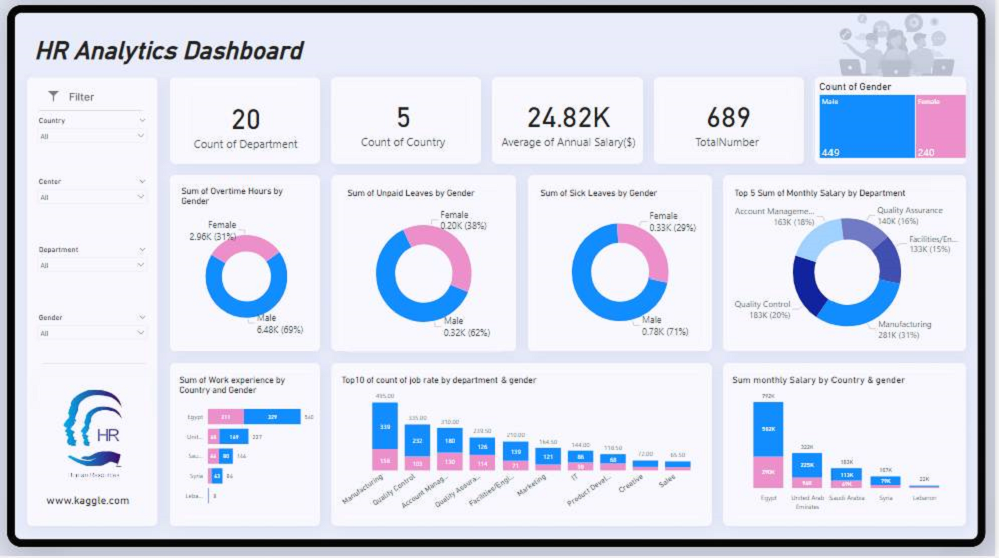

This screenshot's page, from the dashboard's own definition file:
{"tool":"powerbi","page":{"name":"HR","canvas":[1920,1080],"ordinal":0},"visuals":[{"type":"card","fields":{"Values":["CountNonNull(EmpTable.No)"]},"box":[1279.4,174,254.6,131.6],"z":0},{"type":"treemap","title":"Count of Gender","fields":{"Group":["EmpTable.Gender"],"Values":["Count(EmpTable.No)"]},"box":[1571.2,155.8,303.8,167.3],"z":1000},{"type":"card","fields":{"Values":["Avg(EmpTable.Annual Salary)"]},"box":[954.8,174,286.4,131.6],"z":2000},{"type":"card","fields":{"Values":["Count(EmpTable.Country)"]},"box":[645,174,269.5,131.6],"z":3000},{"type":"card","fields":{"Values":["Count(EmpTable.Department)"]},"box":[360.7,169.7,229.2,148.5],"z":4000},{"type":"columnChart","title":"Top10 of count of job rate by department & gender","fields":{"Category":["EmpTable.Department"],"Y":["Sum(EmpTable.Job Rate)"],"Series":["EmpTable.Gender"]},"box":[649.3,723.5,721.4,282.2],"z":5000},{"type":"columnChart","title":" Sum monthly Salary by Country & gender ","fields":{"Category":["EmpTable.Country"],"Y":["Sum(EmpTable.Monthly Salary)"],"Series":["EmpTable.Gender"]},"box":[1402.5,723.5,451.9,282.2],"z":6000},{"type":"barChart","fields":{"Category":["EmpTable.Country"],"Y":["Sum(EmpTable.Years)"],"Series":["EmpTable.Gender"]},"box":[335.2,723.5,282.2,282.2],"z":7000},{"type":"donutChart","title":"Top 5 Sum of Monthly Salary by Department","fields":{"Category":["EmpTable.Department"],"Y":["Sum(EmpTable.Monthly Salary)"]},"box":[1406.8,362.8,456.2,318.3],"z":8000},{"type":"donutChart","fields":{"Category":["EmpTable.Gender"],"Y":["Sum(EmpTable.Sick Leaves)"]},"box":[1031.2,362.8,331,318.3],"z":9000},{"type":"donutChart","fields":{"Category":["EmpTable.Gender"],"Y":["Sum(EmpTable.Unpaid Leaves)"]},"box":[659.9,362.8,318.3,322.5],"z":10000},{"type":"donutChart","fields":{"Category":["EmpTable.Gender"],"Y":["Sum(EmpTable.Overtime Hours)"]},"box":[339.5,358.6,273.7,322.5],"z":11000},{"type":"slicer","fields":{"Values":["EmpTable.Country"]},"box":[65.4,228.8,232.7,76.9],"z":12000},{"type":"slicer","fields":{"Values":["EmpTable.Department"]},"box":[65.4,476.9,232.7,76.9],"z":13000},{"type":"slicer","fields":{"Values":["EmpTable.Gender"]},"box":[65.4,605.8,232.7,76.9],"z":14000},{"type":"slicer","fields":{"Values":["EmpTable.Center"]},"box":[65.4,346.2,232.7,76.9],"z":15000},{"type":"textbox","box":[65.8,954.8,216.4,50.9],"z":16000},{"type":"textbox","box":[65.5,70.6,546.8,85.7],"z":17000},{"type":"image","box":[65.8,723.5,237.6,231.3],"z":18000}]}

Visuals, with their boxes in screenshot pixels (x1, y1, x2, y2), scaled from the page's 1920x1080 canvas onto the 999x558 screenshot:
card - CountNonNull(EmpTable.No): left=666, top=90, right=798, bottom=158
"Count of Gender" treemap: left=818, top=80, right=976, bottom=167
card - Avg(EmpTable.Annual Salary): left=497, top=90, right=646, bottom=158
card - Count(EmpTable.Country): left=336, top=90, right=476, bottom=158
card - Count(EmpTable.Department): left=188, top=88, right=307, bottom=164
"Top10 of count of job rate by department & gender" columnChart: left=338, top=374, right=713, bottom=520
" Sum monthly Salary by Country & gender " columnChart: left=730, top=374, right=965, bottom=520
barChart - EmpTable.Country x Sum(EmpTable.Years): left=174, top=374, right=321, bottom=520
"Top 5 Sum of Monthly Salary by Department" donutChart: left=732, top=187, right=969, bottom=352
donutChart - EmpTable.Gender x Sum(EmpTable.Sick Leaves): left=537, top=187, right=709, bottom=352
donutChart - EmpTable.Gender x Sum(EmpTable.Unpaid Leaves): left=343, top=187, right=509, bottom=354
donutChart - EmpTable.Gender x Sum(EmpTable.Overtime Hours): left=177, top=185, right=319, bottom=352
slicer - EmpTable.Country: left=34, top=118, right=155, bottom=158
slicer - EmpTable.Department: left=34, top=246, right=155, bottom=286
slicer - EmpTable.Gender: left=34, top=313, right=155, bottom=353
slicer - EmpTable.Center: left=34, top=179, right=155, bottom=219
textbox: left=34, top=493, right=147, bottom=520
textbox: left=34, top=36, right=319, bottom=81
image: left=34, top=374, right=158, bottom=493
